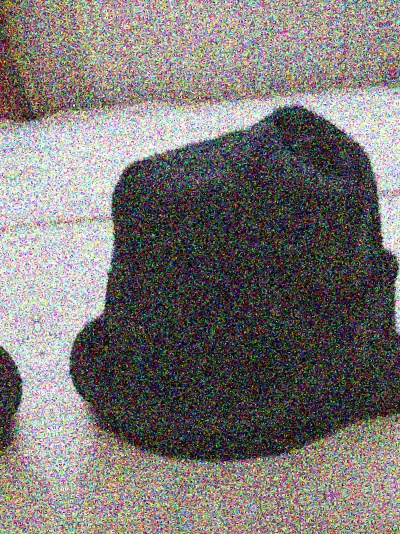Hat: (23, 77, 400, 495), (0, 140, 48, 534), (96, 520, 400, 534)
